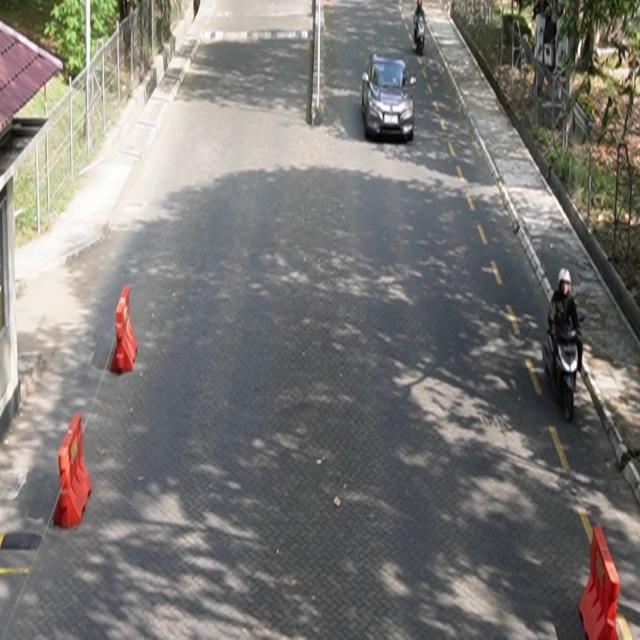car: (362, 53, 417, 143)
